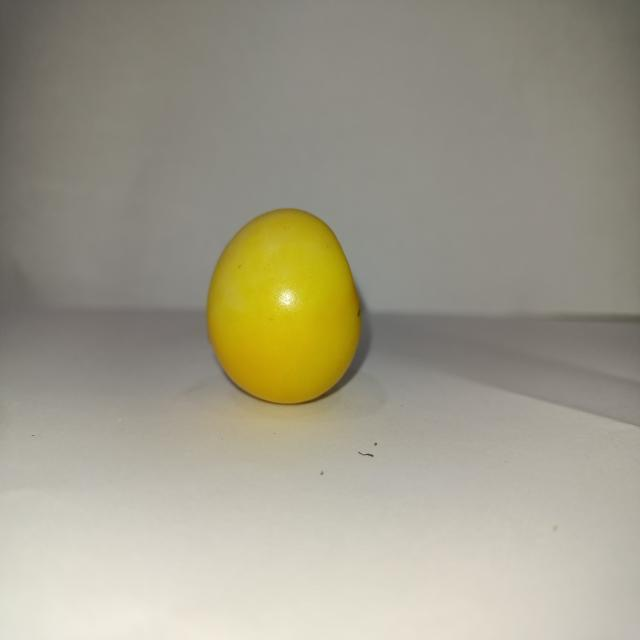Red: (205, 206, 362, 405)
